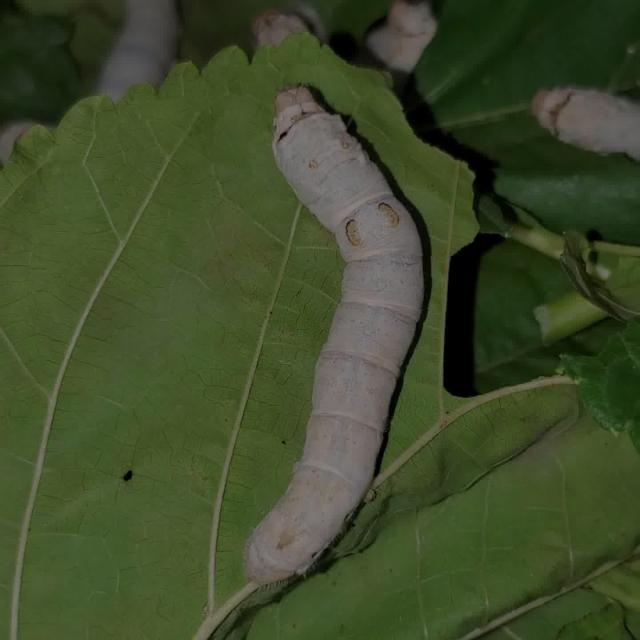Healthy: (226, 74, 444, 588)
